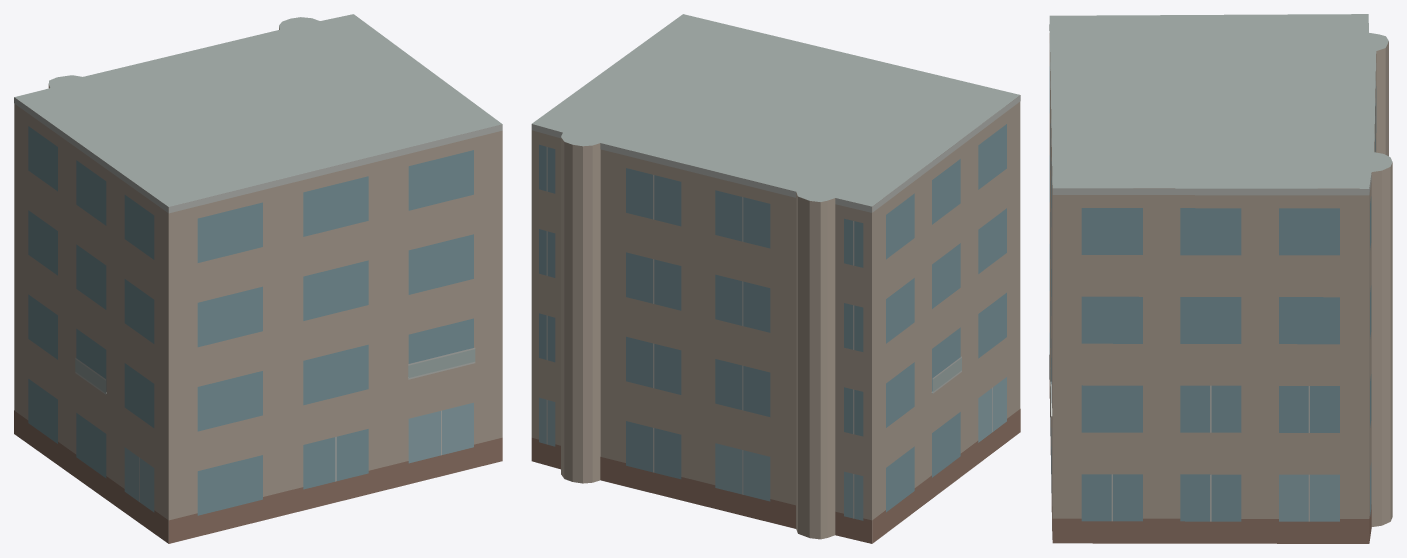
File: survey-upis-32550529.glb
The picture shows the model from 3 angles, left to right: view 1: azimuth 30°, elevation 25°; view 2: azimuth 150°, elevation 25°; view 3: azimuth 270°, elevation 25°; orthographic projection. The views are drawn at different scales.
Visible parts, largest first — view 1: survey-upis-32550529.tmp; view 2: survey-upis-32550529.tmp; view 3: survey-upis-32550529.tmp.
Part boxes in pixels (bbox=[...]): survey-upis-32550529.tmp: bbox=[14, 14, 502, 543]; survey-upis-32550529.tmp: bbox=[531, 14, 1020, 543]; survey-upis-32550529.tmp: bbox=[1049, 14, 1392, 543].
Bounding box in the file's own units: 13.73 × 13 × 11.39.
